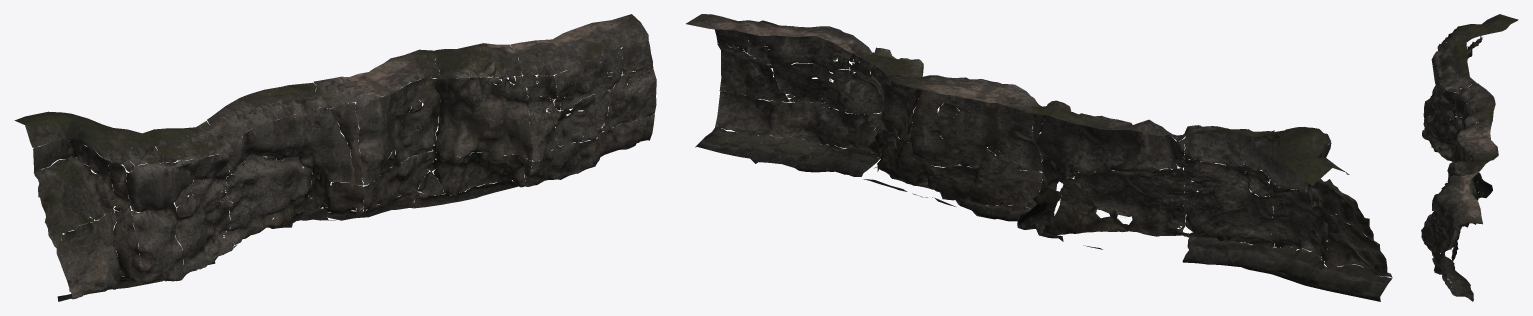
The model's file is kf_cliff_b_dark.glb.
3 renders of one model, left to right at view 1: azimuth 30°, elevation 25°; view 2: azimuth 150°, elevation 25°; view 3: azimuth 270°, elevation 25°, orthographic. The views are drawn at different scales.
Parts seen in each view (by area): view 1: coastal_cliff_02_LOD0; view 2: coastal_cliff_02_LOD0; view 3: coastal_cliff_02_LOD0.
Part boxes in pixels (x1=…): coastal_cliff_02_LOD0: x1=14, y1=14, x2=656, y2=301; coastal_cliff_02_LOD0: x1=686, y1=14, x2=1392, y2=301; coastal_cliff_02_LOD0: x1=1421, y1=14, x2=1518, y2=301.
Size of what is drawn, in the model's own units: 40.94 by 10.04 by 8.63.
1 material, 1 textured.
